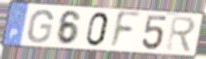0: (85, 11, 110, 48)
5: (142, 14, 169, 51)
6: (54, 9, 84, 46)
F: (108, 10, 142, 51)
G: (26, 9, 55, 45)
R: (165, 15, 197, 54)
